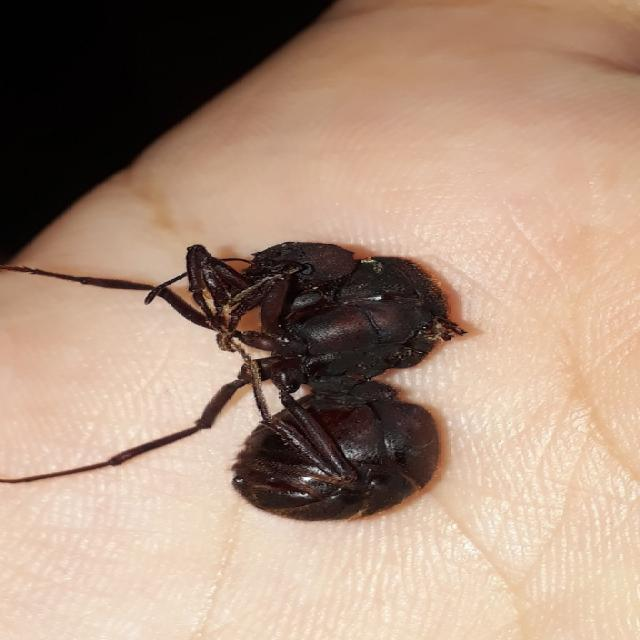Dead-Female-Dealate: (0, 239, 468, 524)
